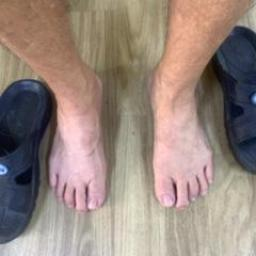Dorsal View -Both Feet-: (24, 48, 236, 226)
